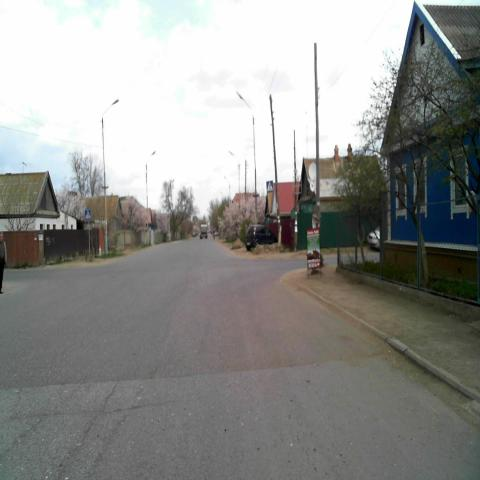5_19_1: (84, 209, 92, 222), (266, 180, 273, 193)
